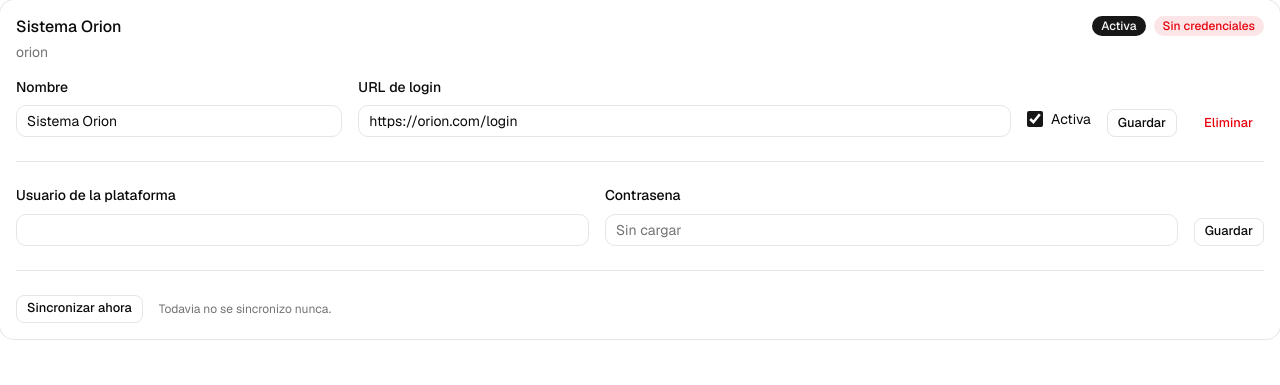
las credenciales muestran los errores por campo
In the field labelled "Usuario de la plataforma": (302, 230) x1=16 y1=214 x2=589 y2=246, type "x"
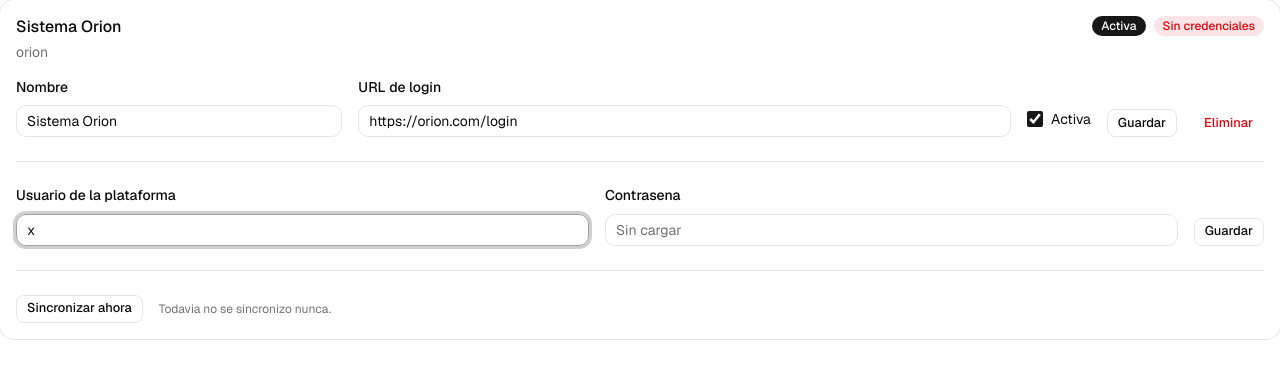
In the password field labelled "Contrasena": (891, 230) x1=605 y1=214 x2=1178 y2=246, type "y"
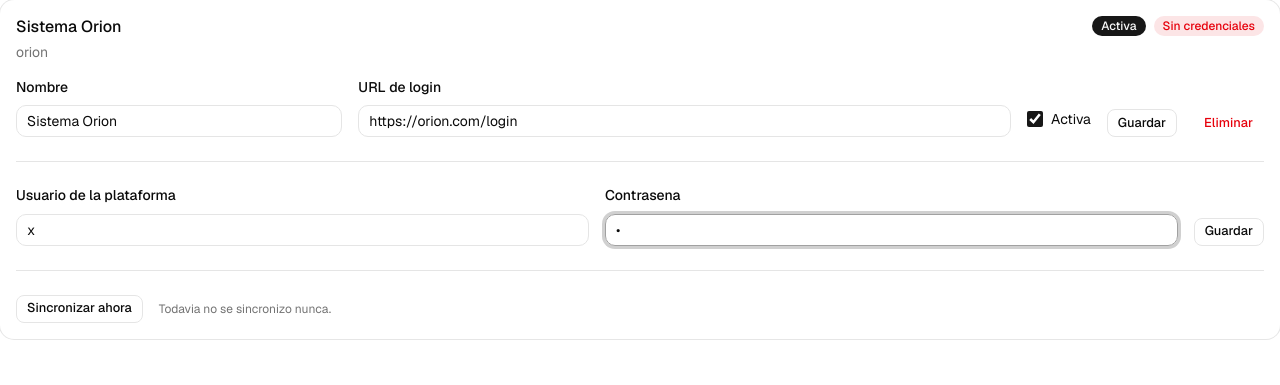
Click the 2nd button "Guardar": (1229, 232) x1=1194 y1=218 x2=1264 y2=246
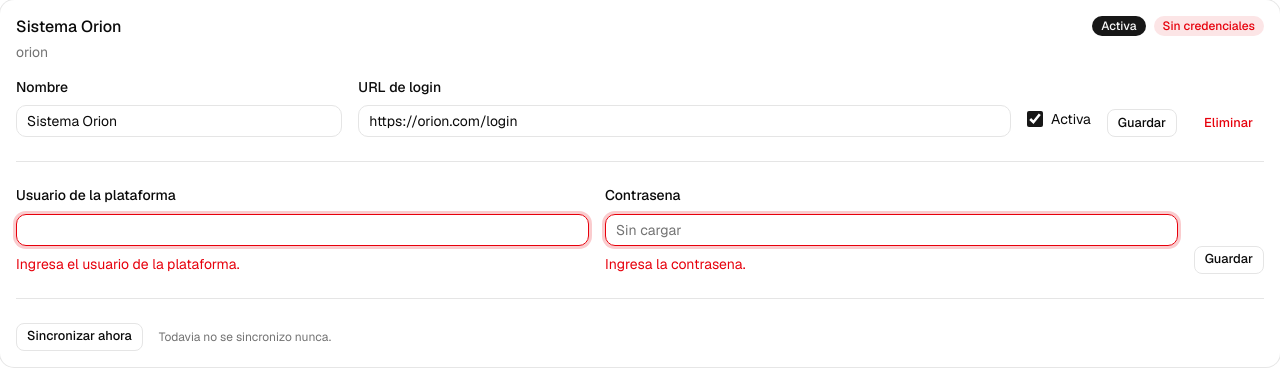
Check: the text "Ingresa el usuario de la plataforma." is shown, box x1=16 y1=254 x2=240 y2=272
